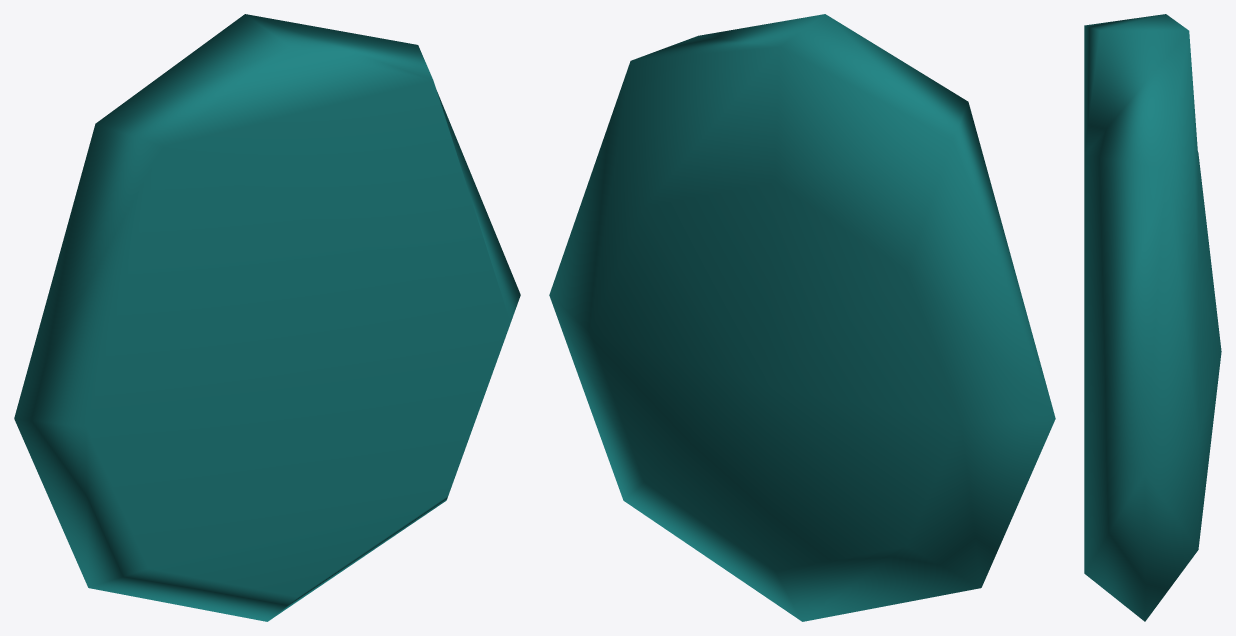
The model's file is stopwatch_collider.fbx.
The picture shows the model from 3 angles, left to right: view 1: azimuth 30°, elevation 25°; view 2: azimuth 150°, elevation 25°; view 3: azimuth 270°, elevation 25°; orthographic projection.
Visible parts, largest first — view 1: stopwatch_collider; view 2: stopwatch_collider; view 3: stopwatch_collider.
Part boxes in pixels (x1,y1,x2,y2): stopwatch_collider: [14, 14, 520, 621]; stopwatch_collider: [549, 14, 1055, 621]; stopwatch_collider: [1084, 14, 1221, 621].
Size of the model in its own units: 8.31 by 9.27 by 1.98.
